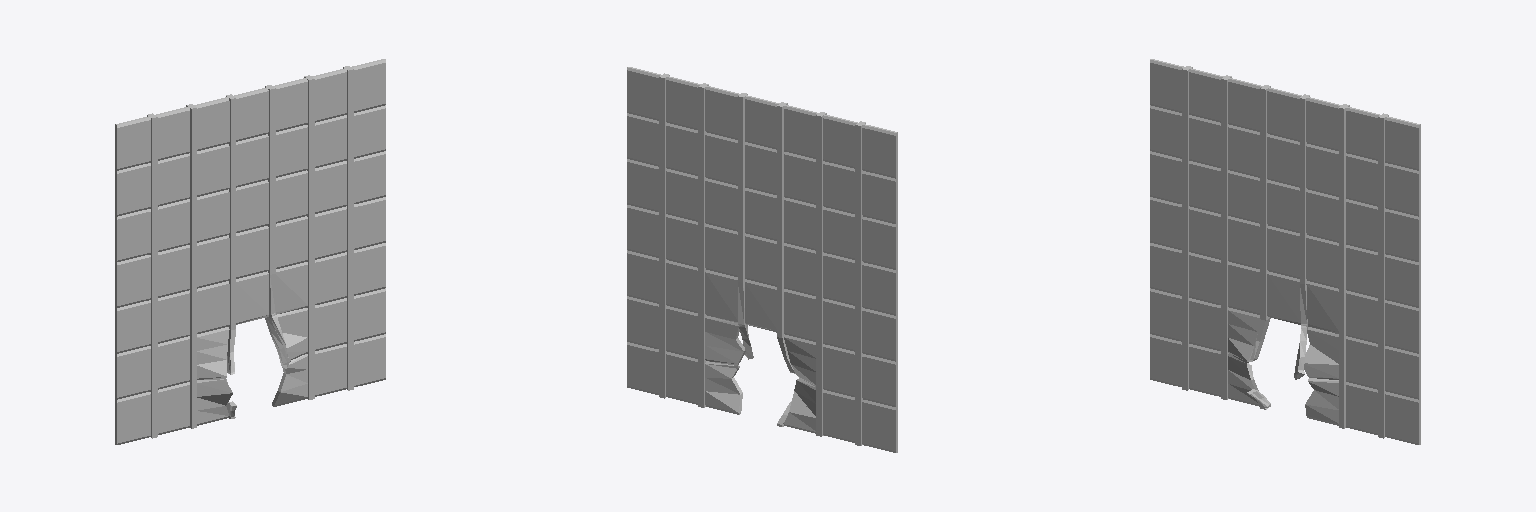
The model's file is Door_Broken.obj.
3 views of the same model, side by side, from view 1: azimuth 30°, elevation 25°; view 2: azimuth 150°, elevation 25°; view 3: azimuth 330°, elevation 25° (orthographic).
Visible parts, largest first — view 1: DoorBroken_DoorBroken_Cube.002; view 2: DoorBroken_DoorBroken_Cube.002; view 3: DoorBroken_DoorBroken_Cube.002.
Part boxes in pixels (left/top/right/bottom): DoorBroken_DoorBroken_Cube.002: left=115, top=59, right=385, bottom=444; DoorBroken_DoorBroken_Cube.002: left=627, top=67, right=897, bottom=452; DoorBroken_DoorBroken_Cube.002: left=1150, top=59, right=1420, bottom=444.
Size of the model in its own units: 24 by 27.3 by 2.6.